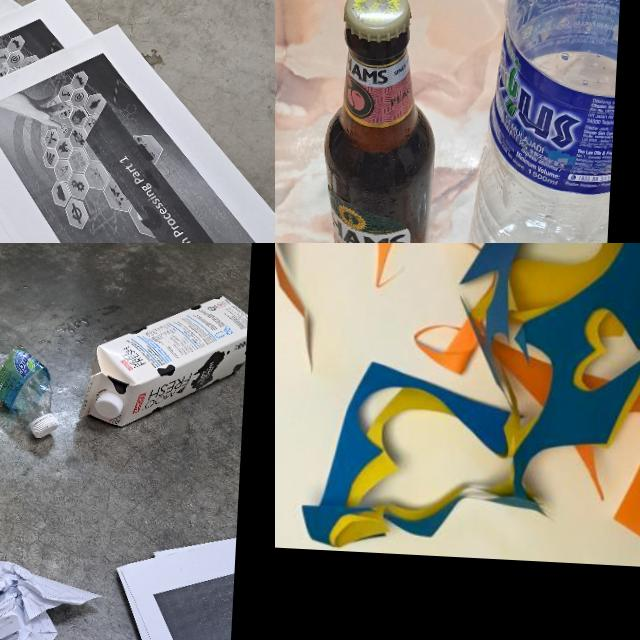caixinha: (78, 288, 249, 434)
garrafa de vidro: (316, 0, 444, 243)
garrafa plástica: (465, 0, 620, 243), (0, 346, 54, 424)
papel: (275, 243, 640, 571), (0, 0, 275, 243), (105, 527, 236, 640), (0, 557, 106, 640)
tampa plástica: (96, 392, 124, 419), (30, 416, 60, 440)
